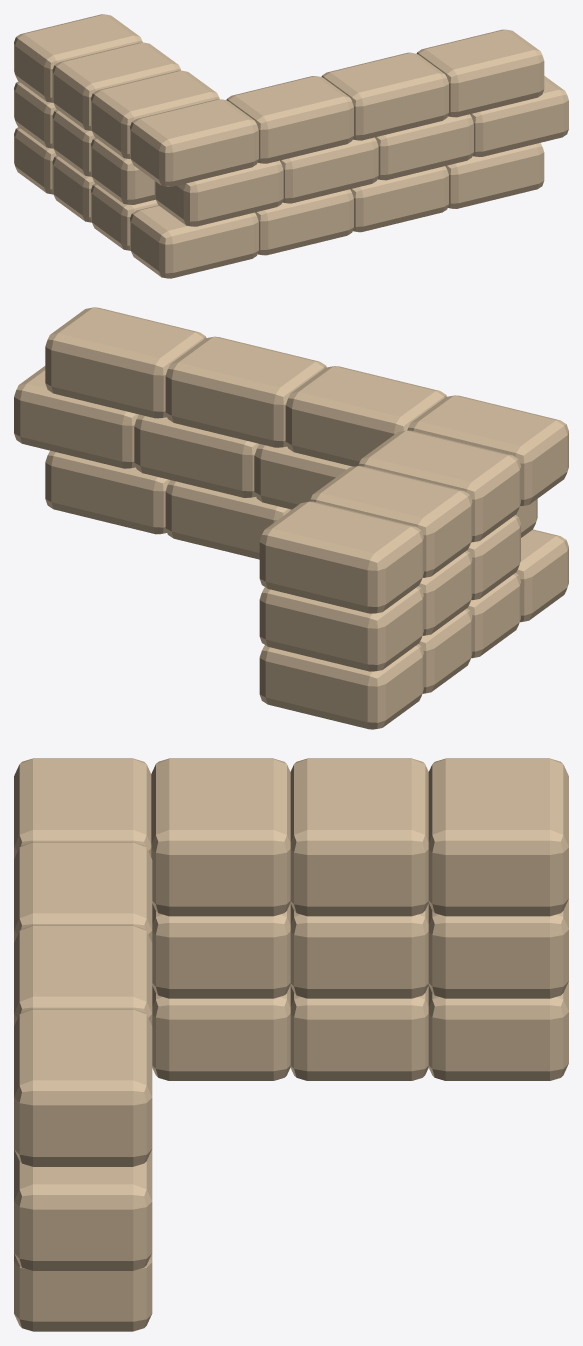
3 renders of one model, top to bottom at view 1: azimuth 30°, elevation 25°; view 2: azimuth 150°, elevation 25°; view 3: azimuth 270°, elevation 25°, orthographic. The views are drawn at different scales.
Parts seen in each view (by area): view 1: sandbag.014, sandbag.017, sandbag.016, sandbag.015, sandbag, sandbag.007, sandbag.018, sandbag.020, sandbag.019, sandbag.010, sandbag.009, sandbag.008 (+9 smaller); view 2: sandbag.020, sandbag.017, sandbag.016, sandbag.015, sandbag.013, sandbag.006, sandbag.018, sandbag.019, sandbag.014, sandbag.010, sandbag.003, sandbag.009 (+7 smaller); view 3: sandbag.020, sandbag.018, sandbag.019, sandbag.017, sandbag.010, sandbag.006, sandbag.013, sandbag.015, sandbag.016, sandbag.014, sandbag.011, sandbag.004 (+3 smaller).
Part boxes in pixels (box(x1,y1,x2,y2)): sandbag.014: box(130, 99, 258, 186); sandbag.017: box(416, 29, 544, 117); sandbag.016: box(321, 52, 448, 140); sandbag.015: box(226, 76, 353, 163); sandbag: box(130, 205, 258, 278); sandbag.007: box(154, 160, 283, 226); sandbag.018: box(91, 70, 219, 159); sandbag.020: box(14, 14, 142, 102); sandbag.019: box(52, 42, 180, 130); sandbag.010: box(470, 76, 568, 156); sandbag.009: box(375, 114, 473, 180); sandbag.008: box(280, 137, 378, 203); sandbag.020: box(259, 501, 423, 613); sandbag.017: box(45, 307, 206, 418); sandbag.016: box(165, 336, 326, 447); sandbag.015: box(285, 366, 446, 466); sandbag.013: box(259, 586, 423, 671); sandbag.006: box(259, 644, 423, 729); sandbag.018: box(358, 430, 520, 542); sandbag.019: box(309, 466, 472, 577); sandbag.014: box(407, 395, 568, 506); sandbag.010: box(14, 366, 138, 468); sandbag.003: box(45, 450, 169, 534); sandbag.009: box(134, 414, 258, 497); sandbag.020: box(428, 758, 568, 916); sandbag.018: box(151, 758, 290, 916); sandbag.019: box(290, 758, 428, 916); sandbag.017: box(14, 1009, 152, 1166); sandbag.010: box(14, 1149, 152, 1270); sandbag.006: box(428, 981, 568, 1080); sandbag.013: box(428, 899, 568, 998); sandbag.015: box(14, 842, 152, 942); sandbag.016: box(14, 925, 152, 1026); sandbag.014: box(14, 758, 151, 858); sandbag.011: box(152, 903, 290, 998); sandbag.004: box(152, 985, 290, 1080).
Size of the model in its own units: 2.15 by 0.7 by 1.4.
